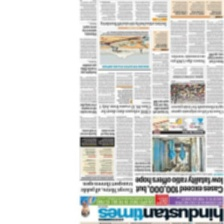news_paper: (78, 0, 224, 224)
